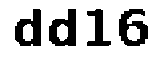1: (85, 4, 111, 52)
6: (118, 4, 150, 49)
d: (47, 5, 82, 51), (14, 8, 44, 51)
